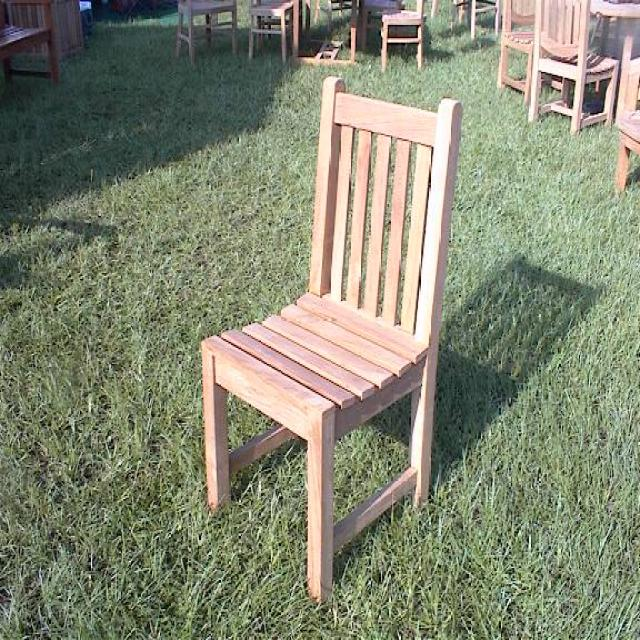Chair: (185, 64, 479, 621), (526, 0, 619, 144)
